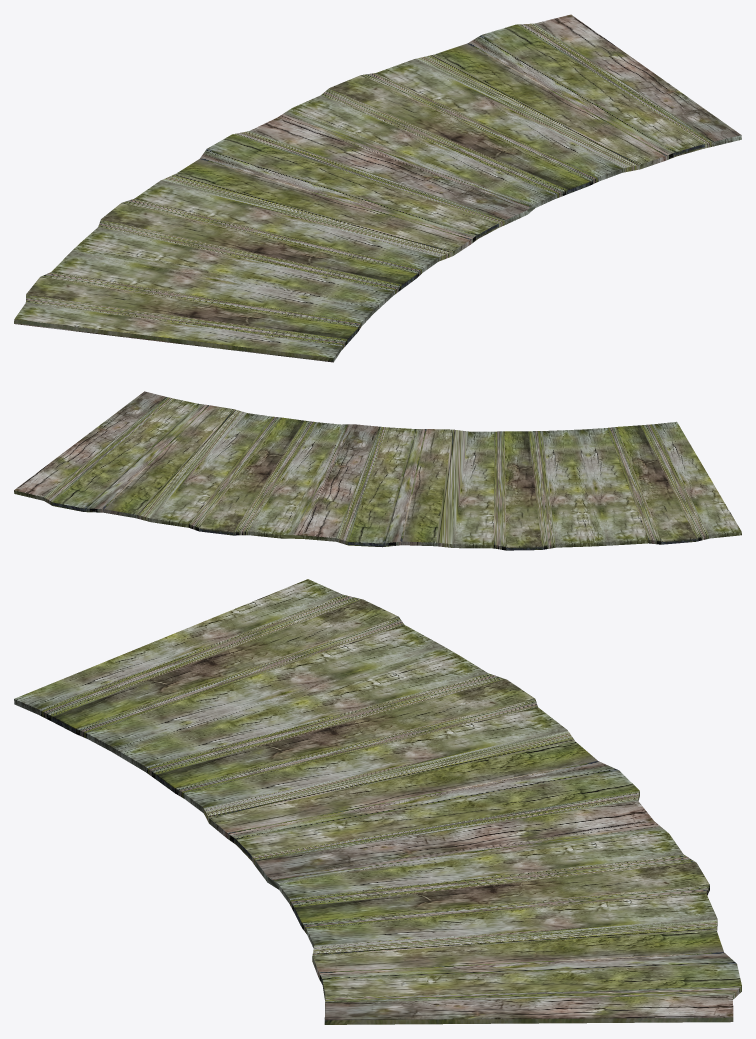
File: Col-R-27g.fbx
3 renders of one model, top to bottom at view 1: azimuth 30°, elevation 25°; view 2: azimuth 150°, elevation 25°; view 3: azimuth 270°, elevation 25°, orthographic. The views are drawn at different scales.
Visible parts, largest first — view 1: GameObject__27_; view 2: GameObject__27_; view 3: GameObject__27_.
Boxes of the visible parts, <box> form: GameObject__27_: <box>14,14,741,362</box>; GameObject__27_: <box>14,391,741,550</box>; GameObject__27_: <box>14,579,741,1024</box>.
Bounding box in the file's own units: 509 × 3 × 356.
